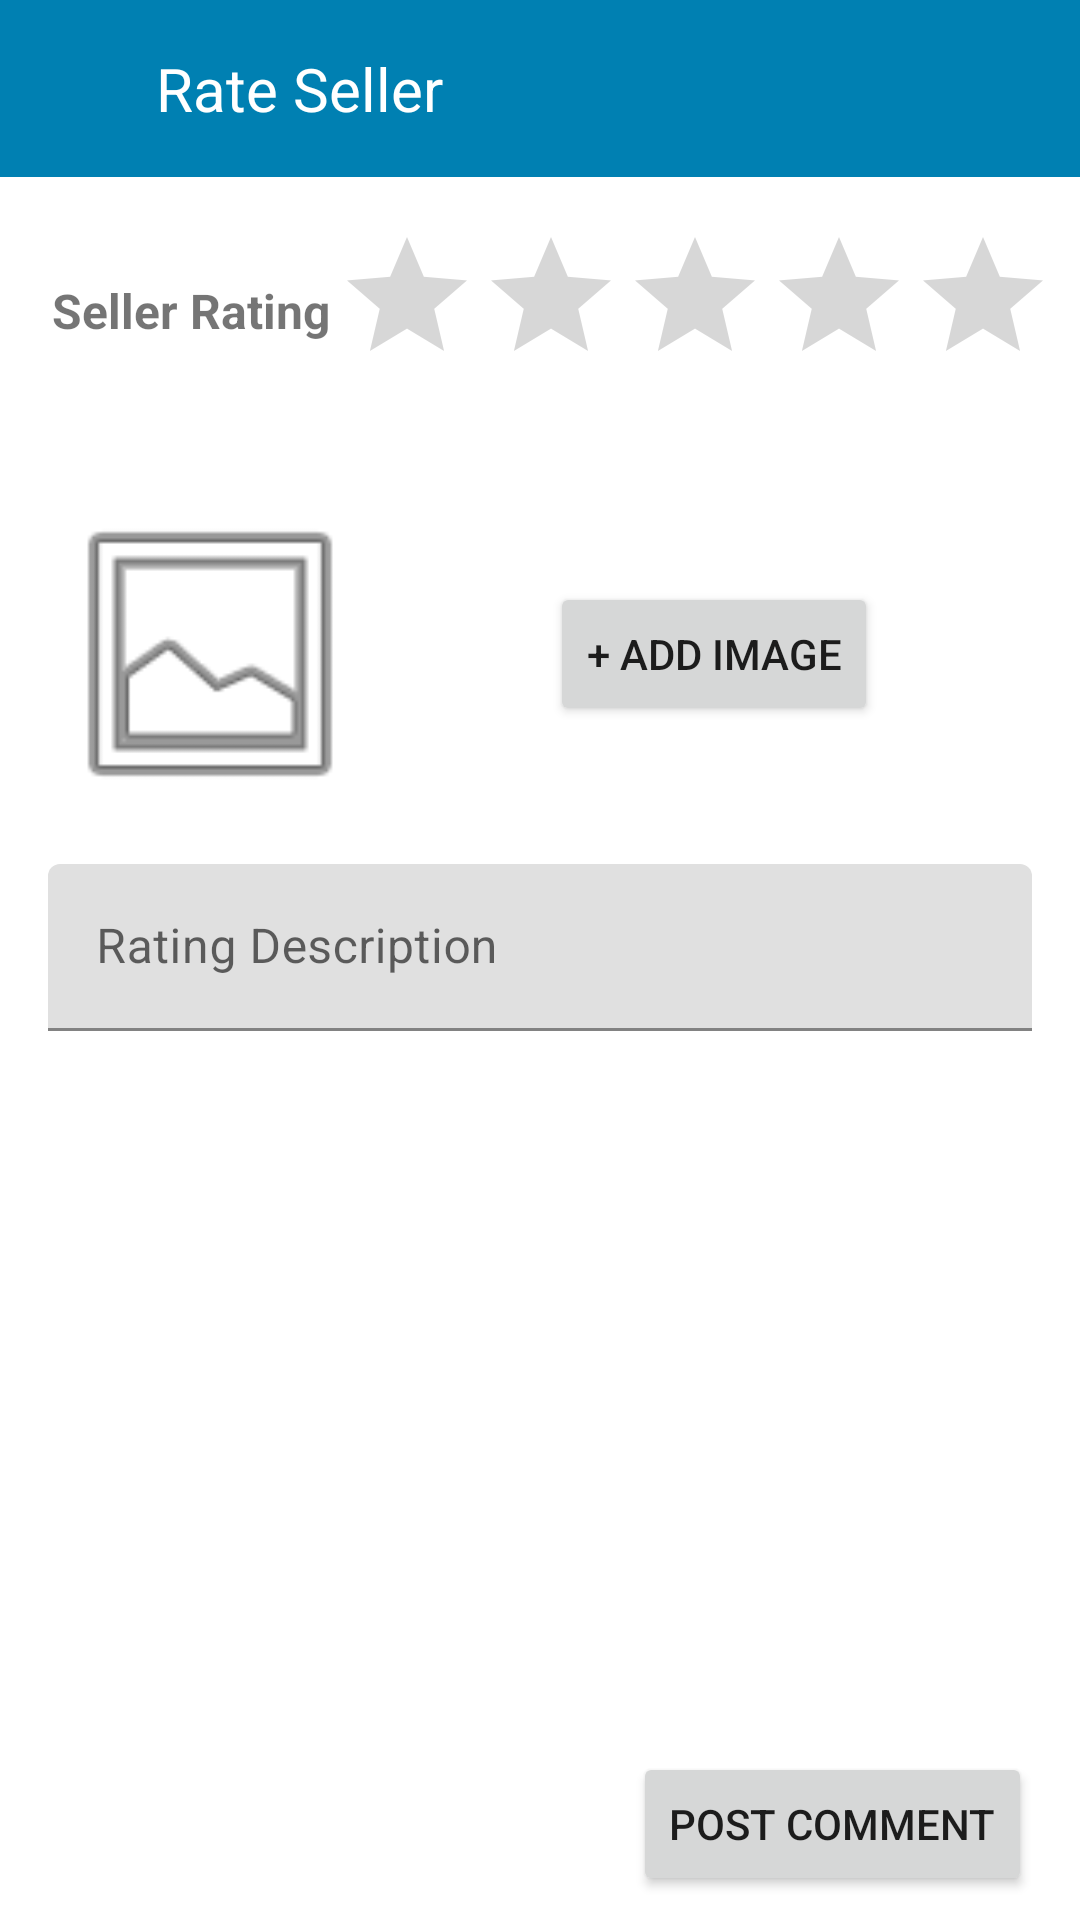

Named icons in this screenshot (1080 × 1920) and their bounding boxes, [x1=x1, y1=y1, x2=x2, y2=y2]:
gallery: [x1=88, y1=531, x2=332, y2=777]
